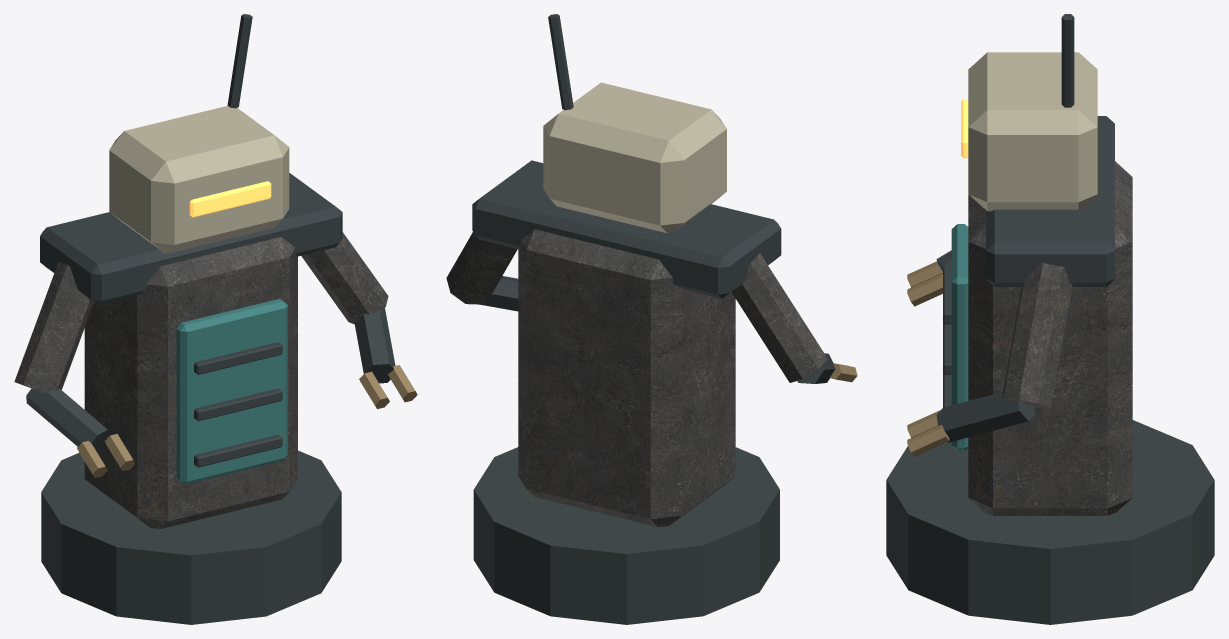
Rendered from machine.glb.
3 views of the same model, side by side, from view 1: azimuth 30°, elevation 25°; view 2: azimuth 150°, elevation 25°; view 3: azimuth 270°, elevation 25° (orthographic). The views are drawn at different scales.
Parts seen in each view (by area): view 1: Machine | Blackened iron, Machine | Forged stormsteel, Machine | Scout chalk enamel, Machine | Scout oxidized teal, Machine | Old brass inlay, Machine | Buried amber cells; view 2: Machine | Forged stormsteel, Machine | Blackened iron, Machine | Scout chalk enamel; view 3: Machine | Blackened iron, Machine | Forged stormsteel, Machine | Scout chalk enamel, Machine | Scout oxidized teal, Machine | Old brass inlay, Machine | Buried amber cells.
Part boxes in pixels (<box>): Machine | Blackened iron: <box>26,14,395,624</box>; Machine | Forged stormsteel: <box>14,232,388,528</box>; Machine | Scout chalk enamel: <box>109,106,289,254</box>; Machine | Scout oxidized teal: <box>176,298,287,484</box>; Machine | Old brass inlay: <box>77,365,417,477</box>; Machine | Buried amber cells: <box>189,181,271,217</box>; Machine | Forged stormsteel: <box>446,229,827,527</box>; Machine | Blackened iron: <box>472,14,835,624</box>; Machine | Scout chalk enamel: <box>543,82,726,233</box>; Machine | Blackened iron: <box>886,14,1214,624</box>; Machine | Forged stormsteel: <box>968,161,1132,515</box>; Machine | Scout chalk enamel: <box>968,52,1097,211</box>; Machine | Scout oxidized teal: <box>951,224,968,450</box>; Machine | Old brass inlay: <box>907,261,949,456</box>; Machine | Buried amber cells: <box>961,99,968,158</box>.
Size of the model in its own units: 1.32 by 1.81 by 0.94.
6 materials, 1 textured.
